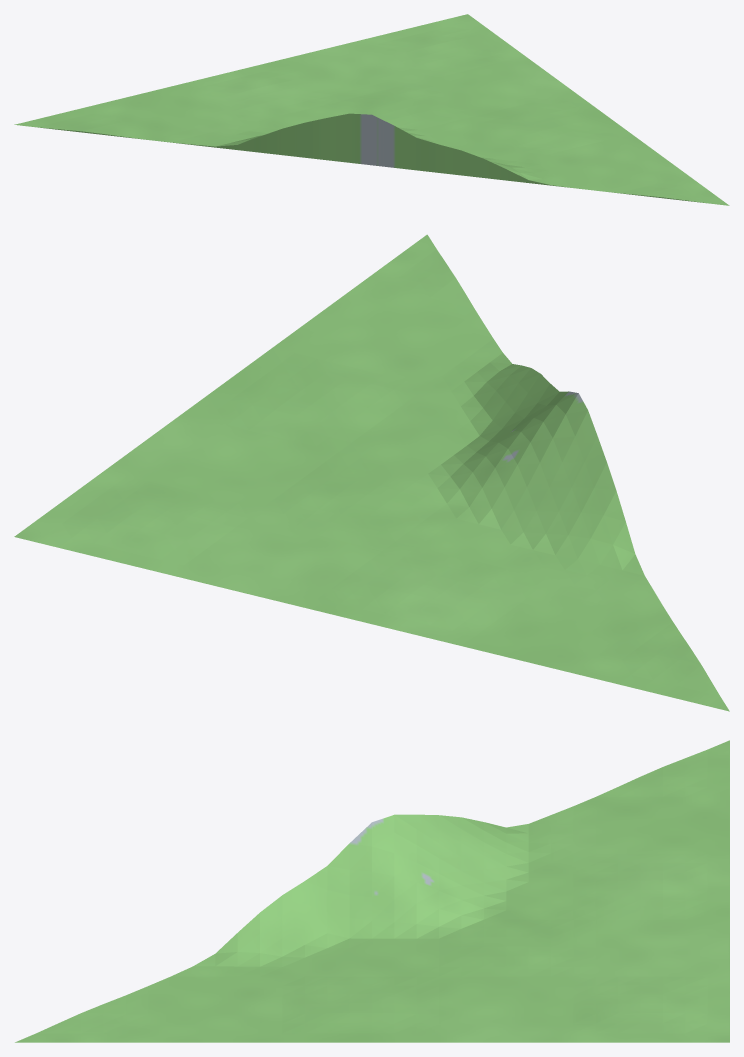
File: Grass_RockyMountains_09_SE.obj
3 views of the same model, one above another, from view 1: azimuth 30°, elevation 25°; view 2: azimuth 150°, elevation 25°; view 3: azimuth 270°, elevation 25° (orthographic). The views are drawn at different scales.
Bounding box in the file's own units: 10 × 1.07 × 10.
1 material, 1 textured.
